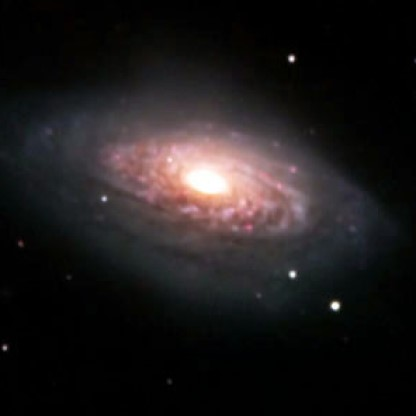NGC 3521: (14, 30, 380, 330)
